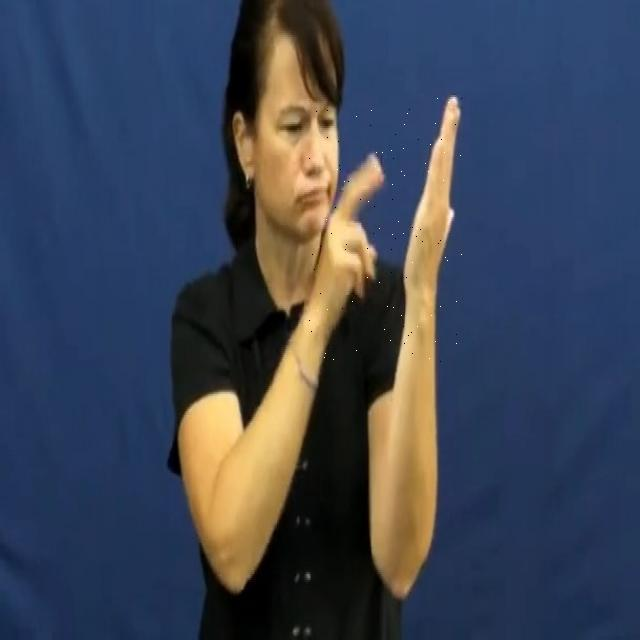menu: (308, 98, 462, 364)
